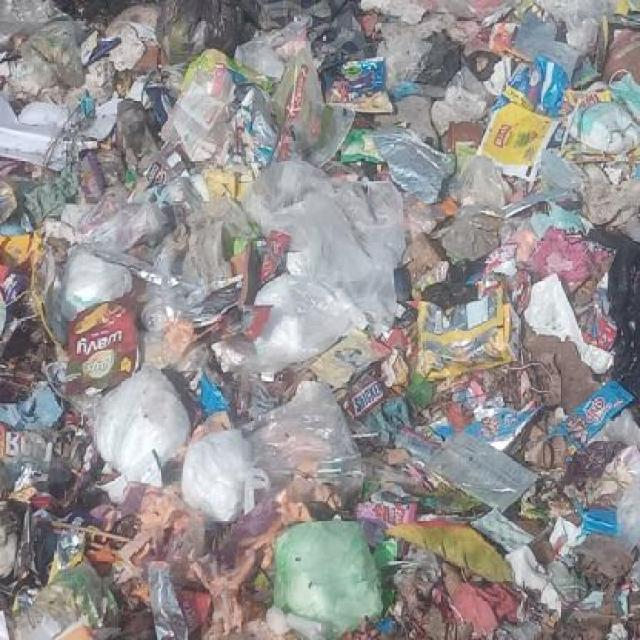garbage: (0, 2, 638, 640)
